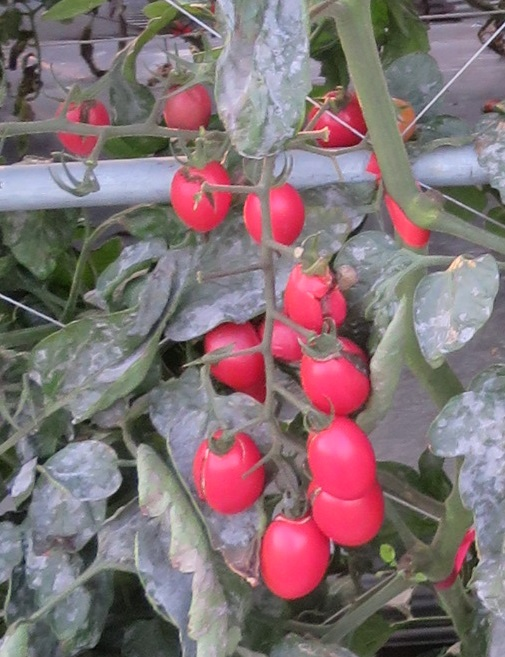red: (257, 508, 327, 600), (302, 418, 380, 499), (300, 334, 372, 414), (196, 435, 269, 513), (173, 160, 232, 235), (307, 499, 395, 549), (283, 262, 346, 331), (202, 320, 264, 390), (242, 181, 305, 247), (53, 98, 112, 156), (310, 90, 369, 148)
